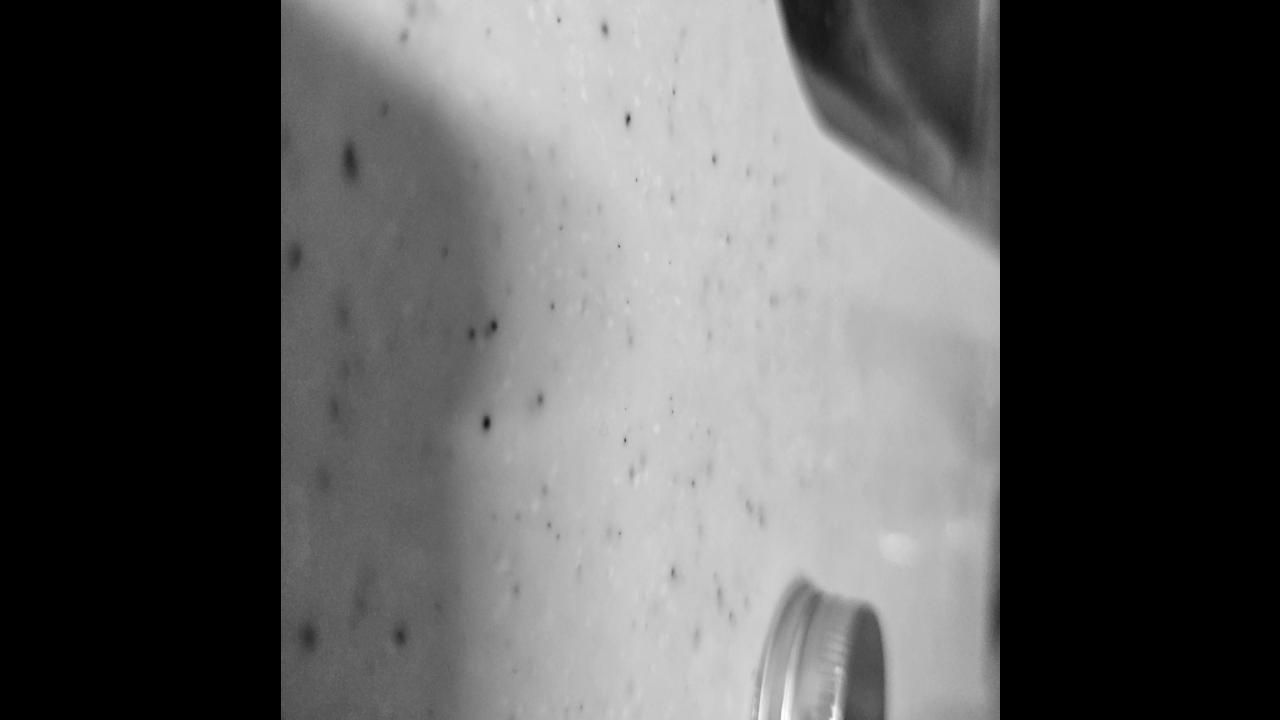bottle_cap: (742, 575, 892, 720)
